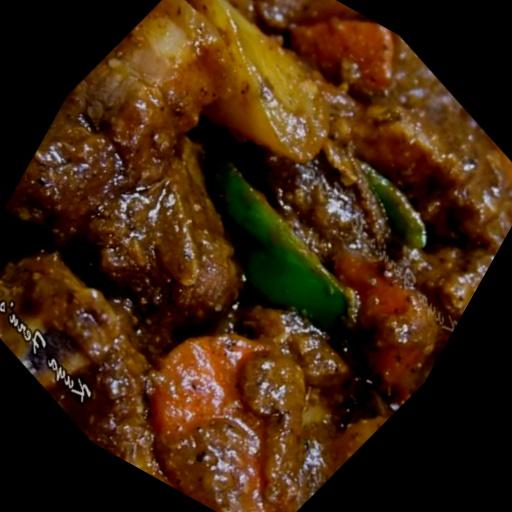pork caldereta: (0, 3, 511, 511)
